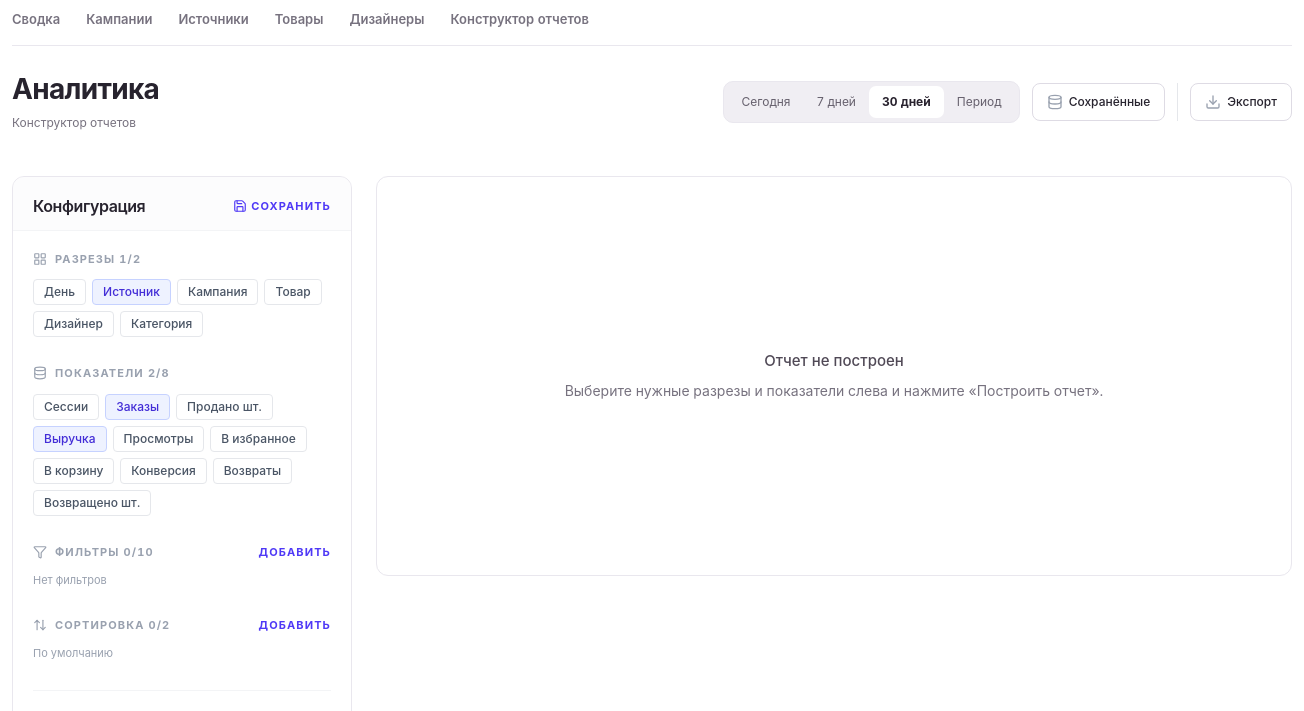
it: AdminMarketingQueryBuilderExport — M8B Behavioral Acceptance Suite › 1-7: Export button exists, disabled with zero metrics, enabled with metrics, menu opens with CSV and XLSX
The width and height of the screenshot is (1304, 711).
Check: the button "Экспорт" is enabled, box [1190,83,1292,121]
Click the button "Выручка".
click(70, 438)  # box [33,426,107,452]
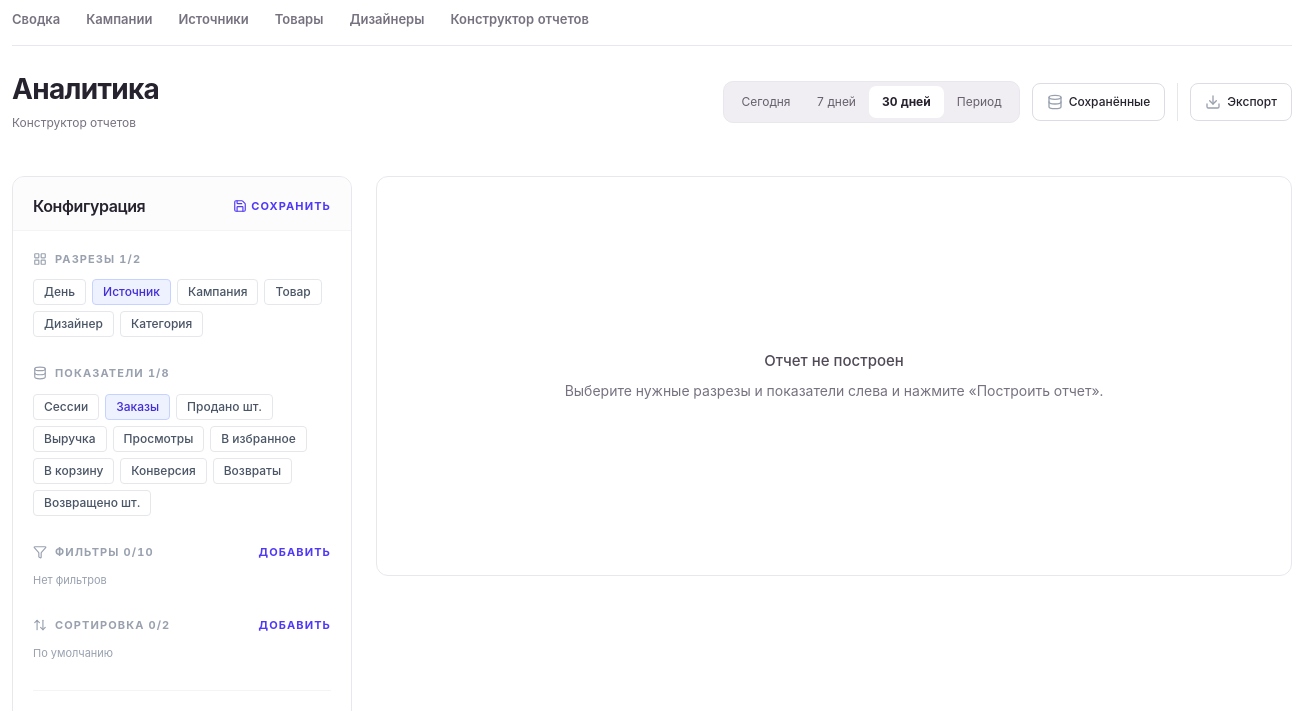
Click the button "Заказы".
click(138, 406)  # box [105,394,170,420]
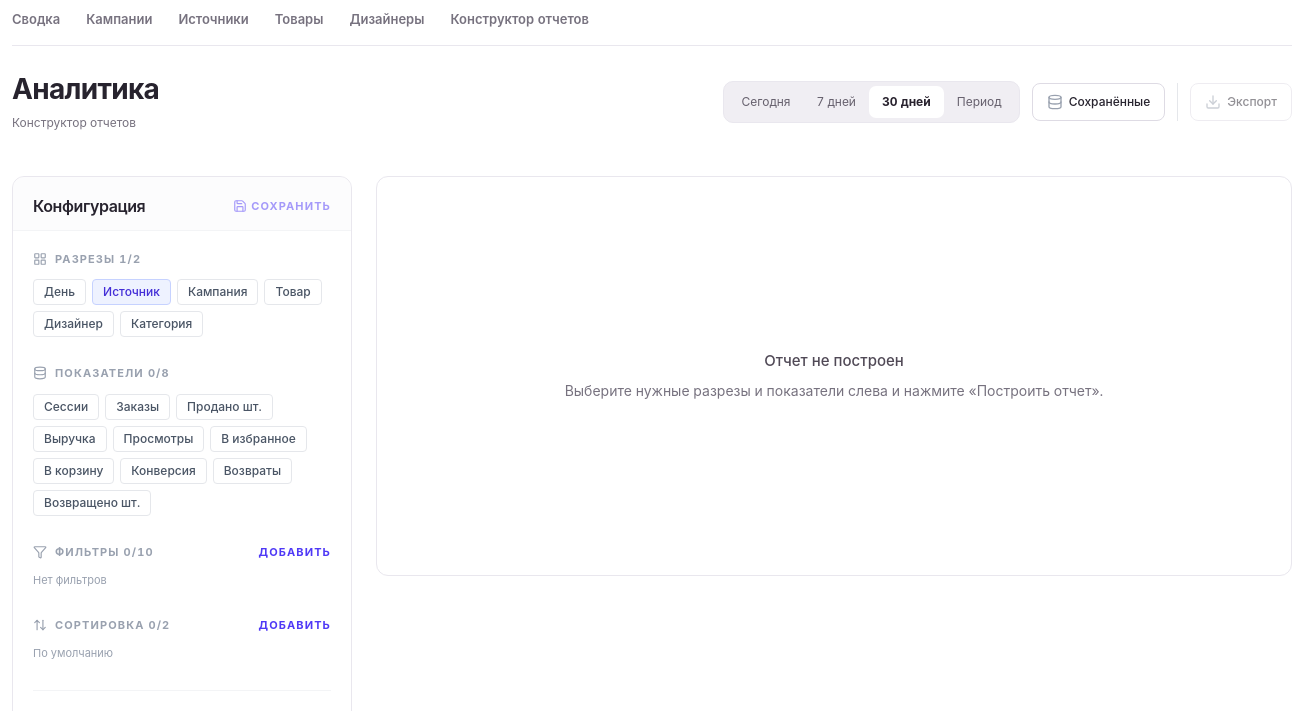
Check: the button "Экспорт" is disabled, box [1190,83,1292,121]
Note: Re-enable by clicking revenue
Click the button "Выручка".
click(70, 438)  # box [33,426,107,452]
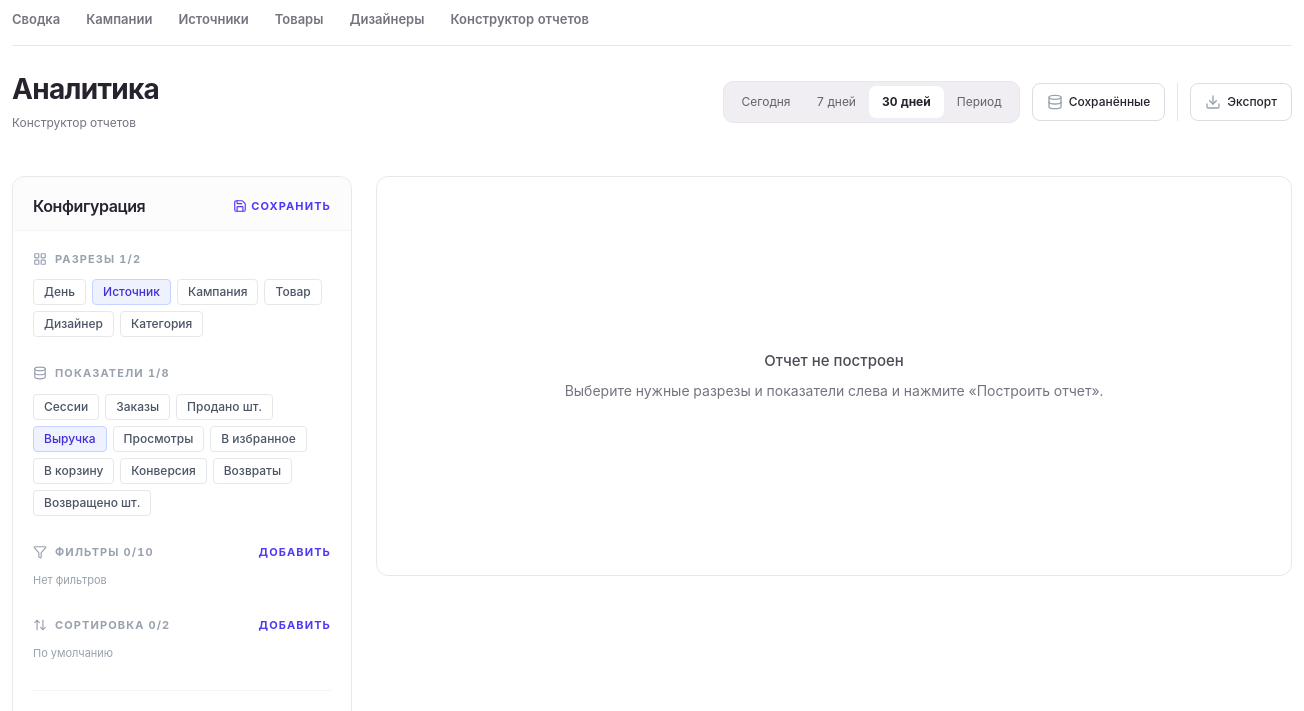
Check: the menu item "CSV" is not shown
Check: the button "Экспорт" is enabled
Click the button "Экспорт".
click(1241, 102)  # box [1190,83,1292,121]
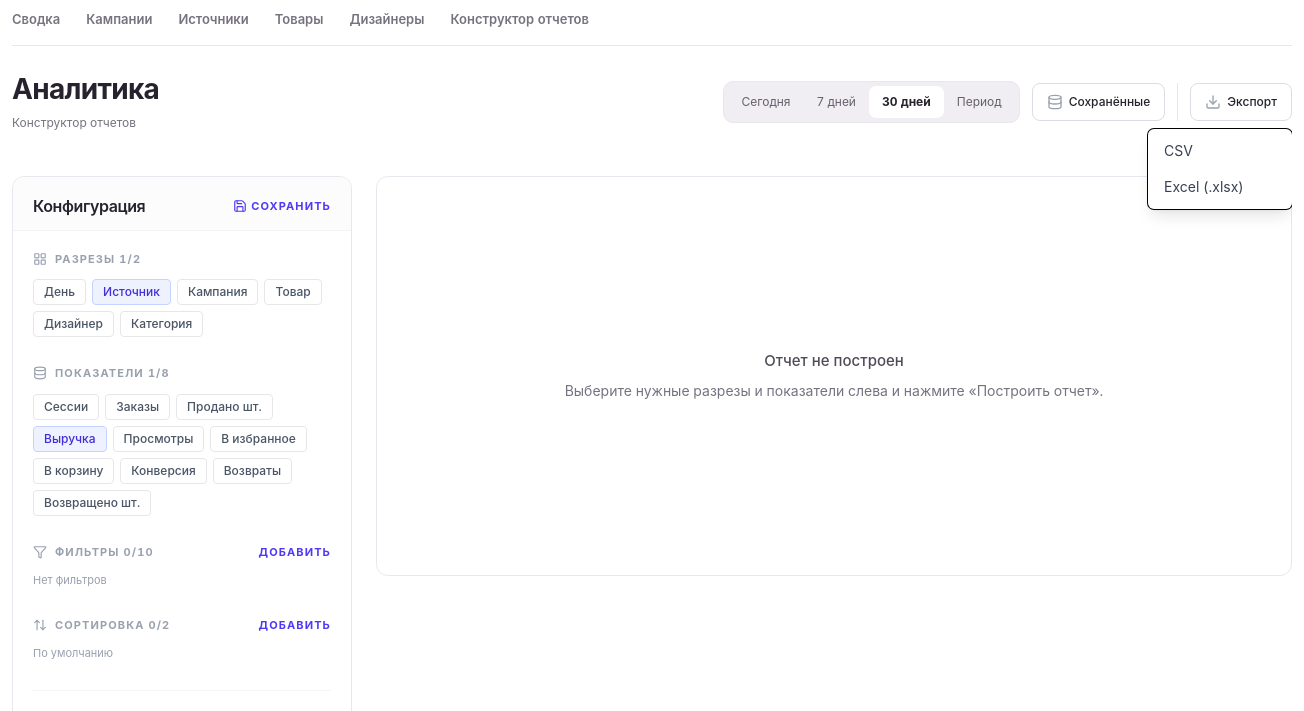
Check: the menu item "CSV" is shown, box [1148,133,1292,169]
Check: the menu item "Excel (.xlsx)" is shown, box [1148,169,1292,205]
